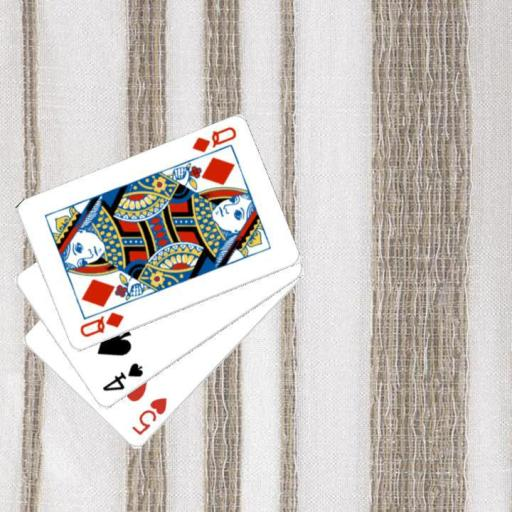4S: (99, 360, 144, 393)
5H: (128, 395, 169, 437)
QD: (189, 124, 239, 155), (76, 310, 125, 340)
